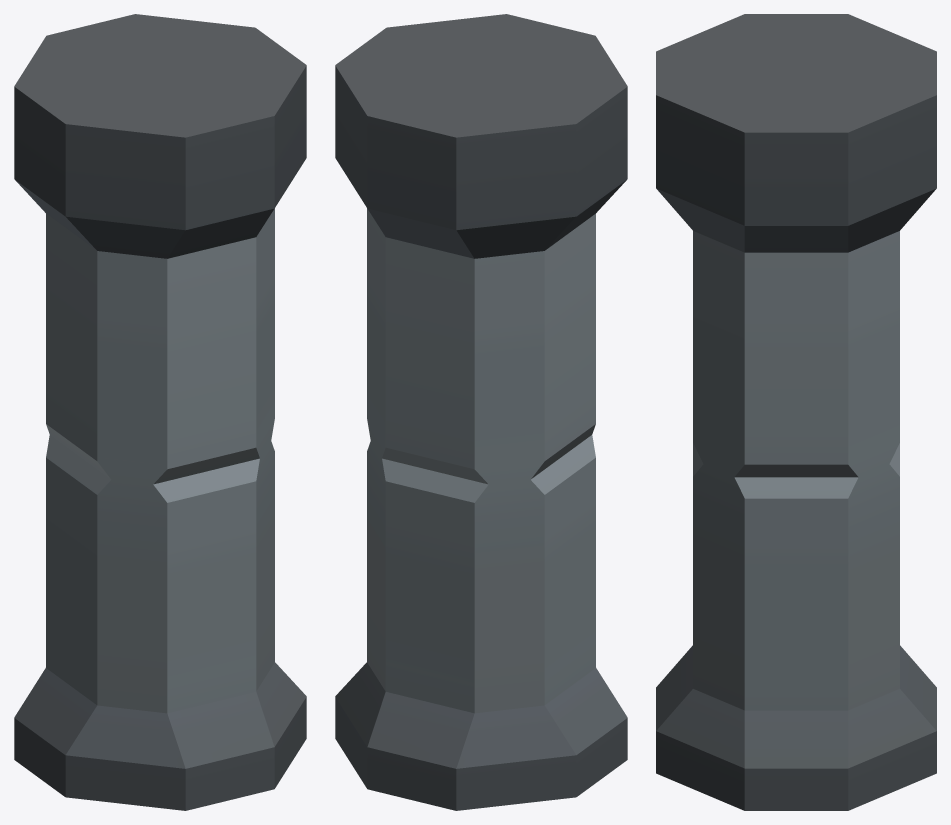
The model's file is pillar.glb.
3 views of the same model, side by side, from view 1: azimuth 30°, elevation 25°; view 2: azimuth 150°, elevation 25°; view 3: azimuth 270°, elevation 25° (orthographic).
Visible parts, largest first — view 1: pillar; view 2: pillar; view 3: pillar.
Part boxes in pixels (box(x1,y1,x2,y2)): pillar: box(14, 14, 306, 810); pillar: box(335, 14, 627, 810); pillar: box(656, 14, 936, 810).
Size of the model in its own units: 1.5 by 4 by 1.5.
Materials: 1 (1 with a texture image).
